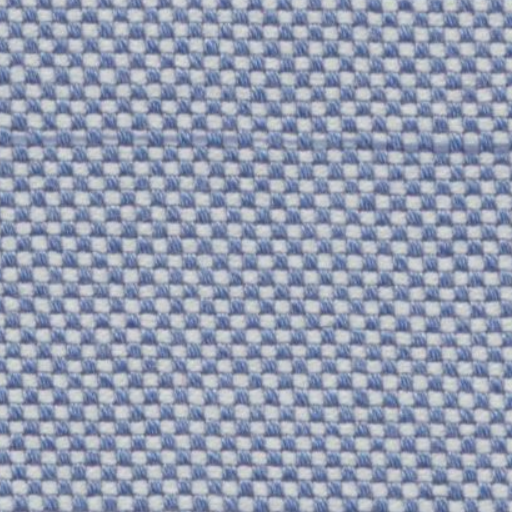TuoSha: (8, 104, 496, 182)
